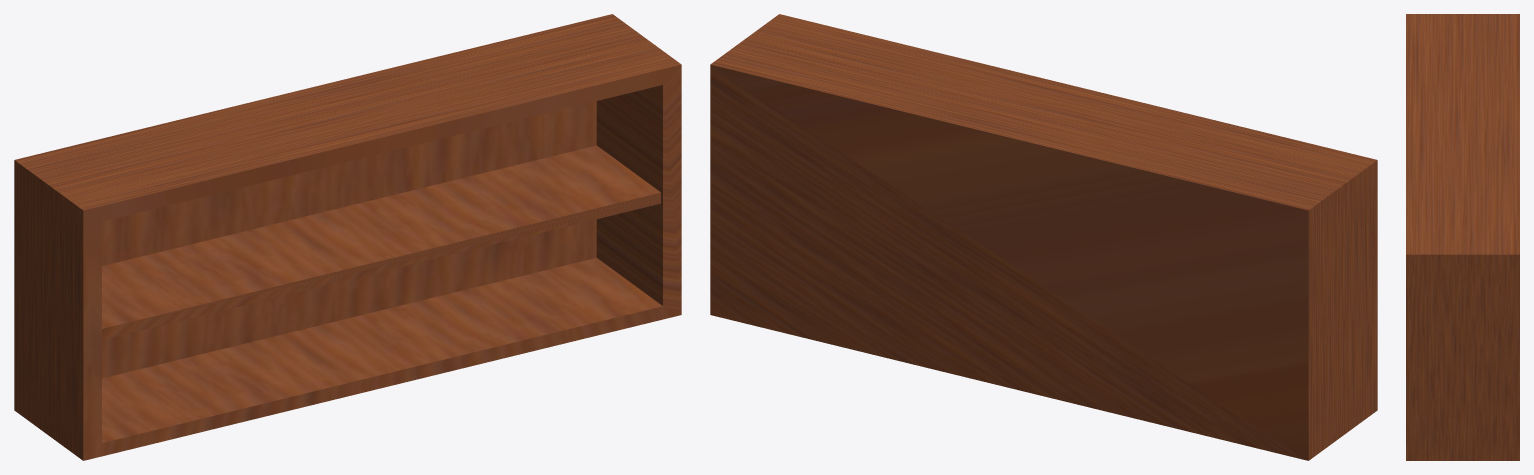
Rendered from H_nger.fbx.
The picture shows the model from 3 angles, left to right: view 1: azimuth 30°, elevation 25°; view 2: azimuth 150°, elevation 25°; view 3: azimuth 270°, elevation 25°; orthographic projection. The views are drawn at different scales.
Parts seen in each view (by area): view 1: Hänger; view 2: Hänger; view 3: Hänger.
Boxes of the visible parts, x1,y1,x2,y2 form: Hänger: (14,14,681,460); Hänger: (710,14,1377,460); Hänger: (1406,14,1519,460).
Size of the model in its own units: 2 by 0.8 by 0.4.
